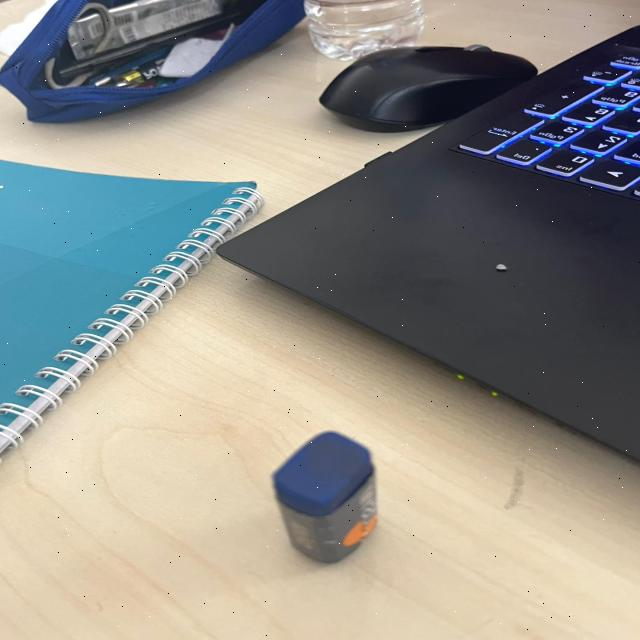eraser: (272, 420, 395, 566)
